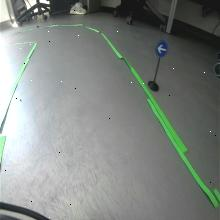left: (156, 39, 168, 58)
